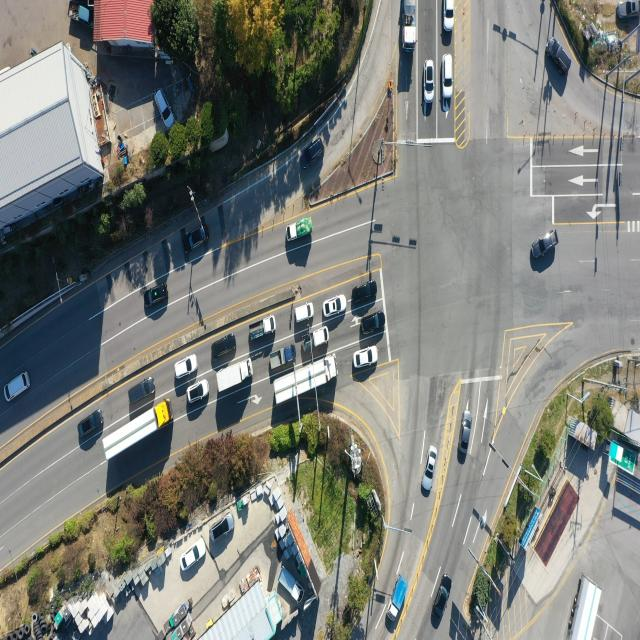car: (548, 36, 570, 78), (4, 371, 30, 403), (299, 136, 324, 169), (185, 541, 206, 579), (128, 378, 156, 406), (76, 411, 102, 441), (422, 446, 438, 494), (156, 88, 175, 128), (534, 229, 561, 256), (432, 578, 450, 617), (458, 411, 472, 457), (212, 518, 234, 546), (360, 314, 385, 338), (352, 347, 378, 370), (185, 225, 208, 251), (352, 280, 376, 304), (175, 353, 198, 378), (144, 285, 169, 307), (213, 336, 236, 359), (325, 294, 349, 316), (186, 380, 208, 404), (444, 55, 455, 101), (424, 55, 435, 100), (617, 0, 640, 19), (294, 304, 315, 324), (445, 0, 455, 31)
medium_truck: (102, 398, 171, 462), (270, 352, 337, 404), (569, 575, 603, 640), (217, 358, 253, 393), (405, 0, 420, 47)
small_truck: (386, 574, 407, 626), (278, 568, 304, 610), (250, 314, 277, 342), (286, 218, 312, 244), (304, 326, 329, 353), (67, 1, 91, 28), (272, 344, 296, 369)
